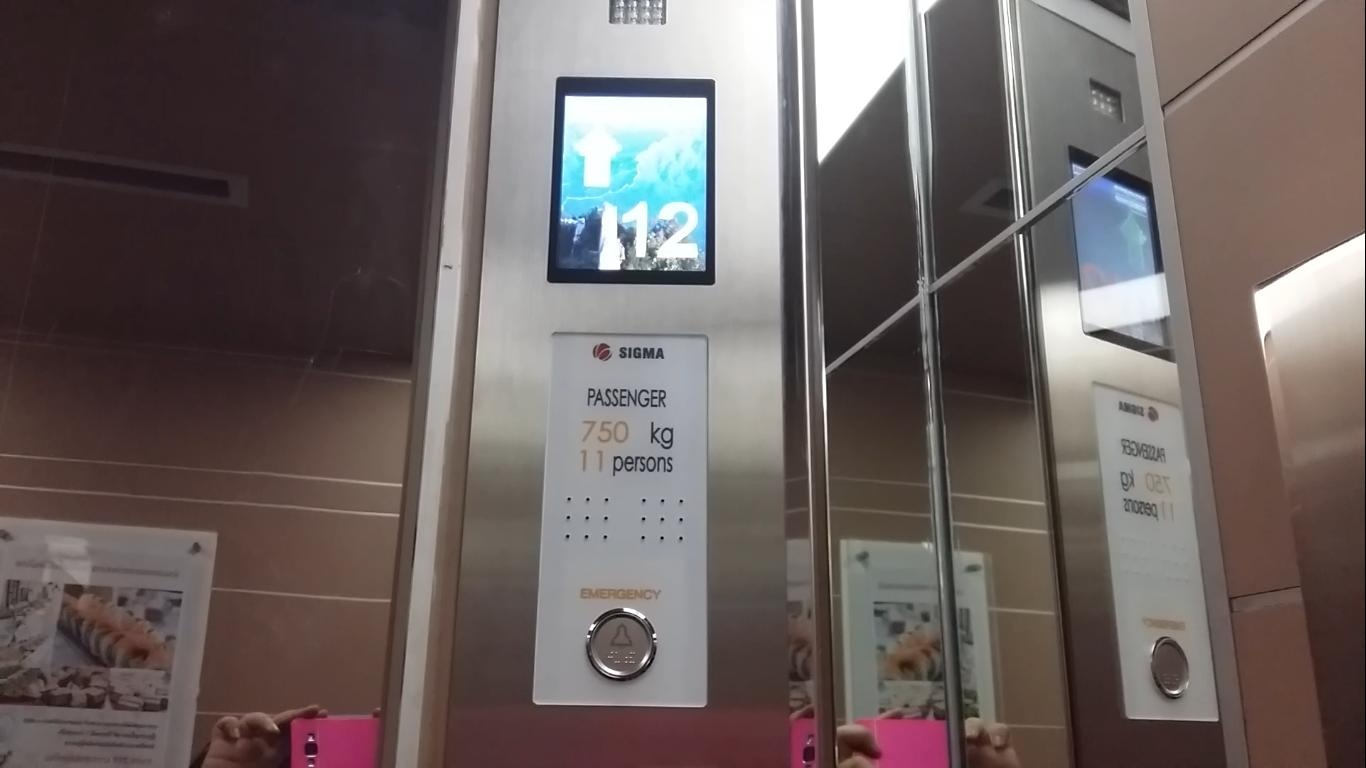alarm: (583, 606, 659, 682)
led: (547, 75, 717, 285)
